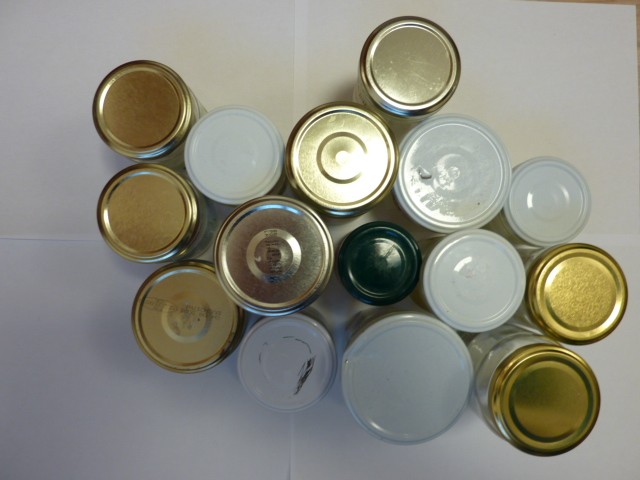damaged: (340, 315, 473, 443), (394, 119, 510, 230), (237, 314, 337, 412)
intact: (214, 195, 333, 316), (280, 100, 398, 217), (129, 262, 240, 375), (490, 345, 600, 455), (95, 163, 201, 266), (358, 17, 463, 117), (183, 104, 283, 205), (90, 61, 192, 160), (531, 243, 628, 346), (503, 158, 594, 245), (338, 224, 422, 306)
